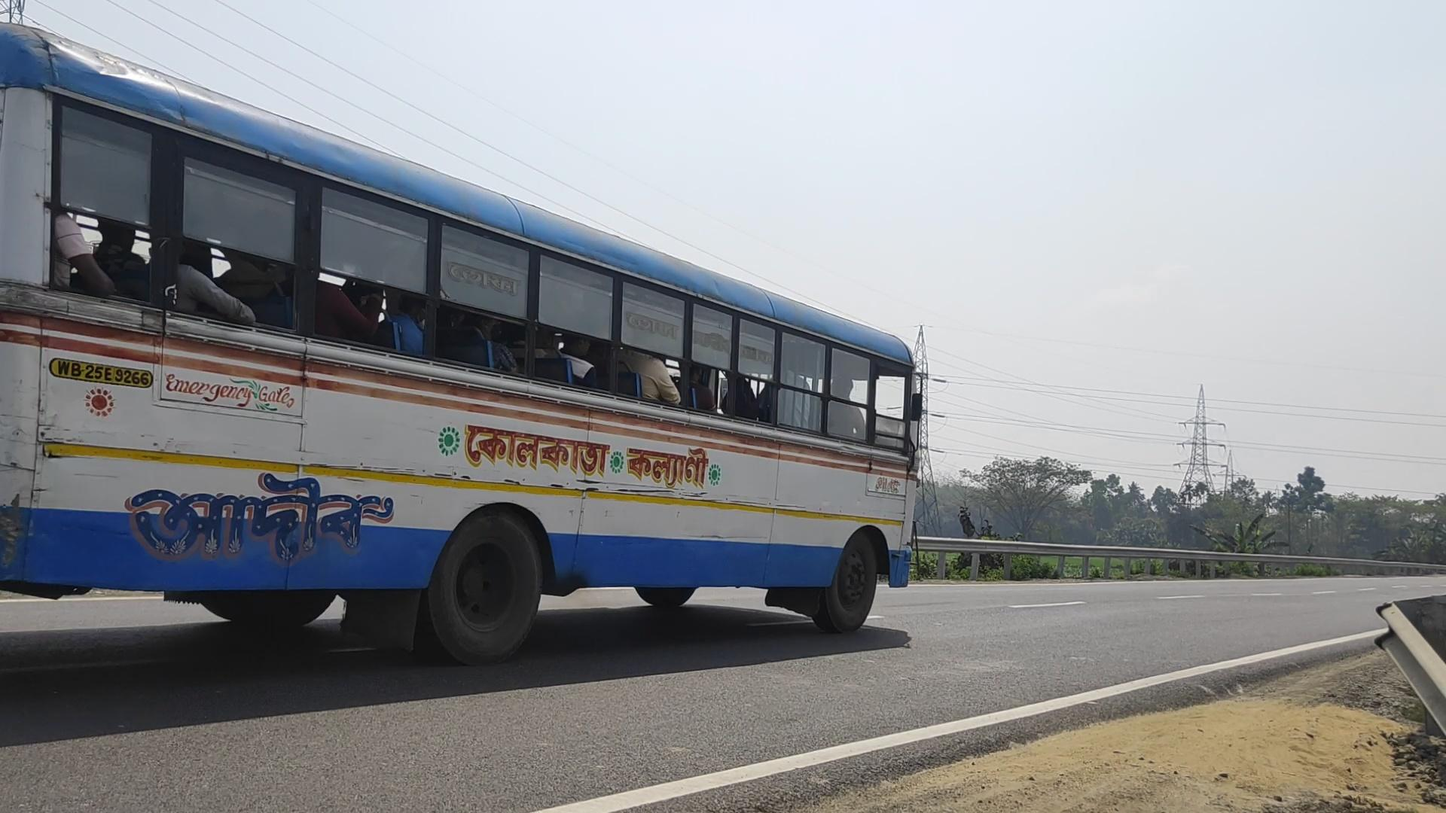Bus: (2, 19, 924, 664)
